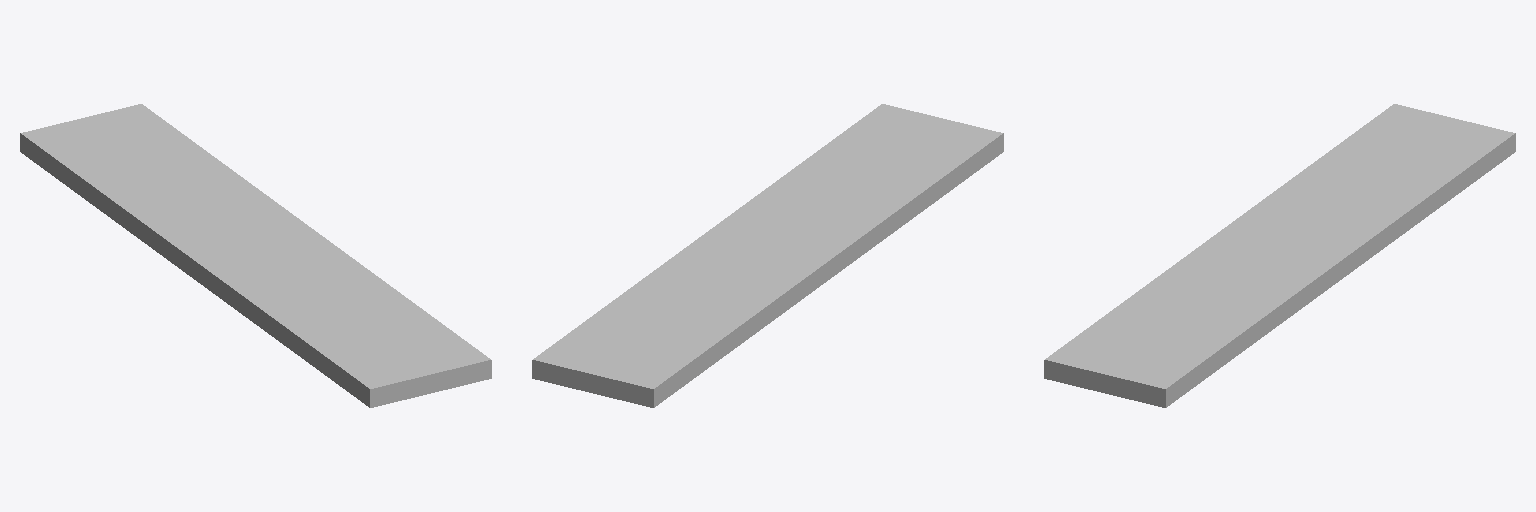
The robot description file, URDF, robot "simple_design":
<?xml version="1.0"?>
<robot name="simple_design">
  <material name="face_material">
    <color rgba="0.8 0.8 0.8 1.0"/>
  </material>
  <link name="face_0">
    <visual>
      <geometry>
        <mesh filename="meshes/face_0.stl" scale="1.0 1.0 1.0"/>
      </geometry>
      <material name="face_material"/>
    </visual>
    <collision>
      <geometry>
        <mesh filename="meshes/face_0.stl" scale="1.0 1.0 1.0"/>
      </geometry>
    </collision>
  </link>
  <link name="face_1">
    <visual>
      <geometry>
        <mesh filename="meshes/face_1.stl" scale="1.0 1.0 1.0"/>
      </geometry>
      <material name="face_material"/>
    </visual>
    <collision>
      <geometry>
        <mesh filename="meshes/face_1.stl" scale="1.0 1.0 1.0"/>
      </geometry>
    </collision>
  </link>
  <link name="face_2">
    <visual>
      <geometry>
        <mesh filename="meshes/face_2.stl" scale="1.0 1.0 1.0"/>
      </geometry>
      <material name="face_material"/>
    </visual>
    <collision>
      <geometry>
        <mesh filename="meshes/face_2.stl" scale="1.0 1.0 1.0"/>
      </geometry>
    </collision>
  </link>
  <joint name="joint_0" type="revolute">
    <parent link="face_1"/>
    <child link="face_0"/>
    <origin xyz="10.000000 30.000000 0.000000" rpy="0 0 0"/>
    <axis xyz="-1.000000 -0.000000 0.000000"/>
    <limit effort="10" velocity="3.14" lower="-1.57" upper="1.57"/>
  </joint>
  <joint name="joint_1" type="revolute">
    <parent link="face_1"/>
    <child link="face_2"/>
    <origin xyz="10.000000 70.000000 0.000000" rpy="0 0 0"/>
    <axis xyz="1.000000 0.000000 0.000000"/>
    <limit effort="10" velocity="3.14" lower="-1.57" upper="1.57"/>
  </joint>
</robot>

--- What the picture shows (computed from the rendered views, not written in the file) ---
The picture shows the robot from 3 angles, left to right: view 1: azimuth 30°, elevation 25°; view 2: azimuth 150°, elevation 25°; view 3: azimuth 330°, elevation 25°; orthographic projection.
Robot: simple_design — 3 links, 2 joints (2 revolute); root link face_1; default pose: every joint at zero.
Links seen in each view (by area): view 1: face_1, face_0, face_2; view 2: face_1, face_2, face_0; view 3: face_1, face_0, face_2.
Link boxes in pixels (<box>): face_1: <box>125,181,385,330</box>; face_0: <box>265,283,491,407</box>; face_2: <box>20,104,246,227</box>; face_1: <box>638,181,898,330</box>; face_2: <box>532,283,758,407</box>; face_0: <box>777,104,1003,227</box>; face_1: <box>1150,181,1410,330</box>; face_0: <box>1044,283,1270,407</box>; face_2: <box>1289,104,1515,227</box>.
Bounding box of the posed robot: 20 × 100 × 3 m (x, y, z).
Meshes: 3 distinct files referenced, 3 mesh visuals loaded (3 binary STL).
